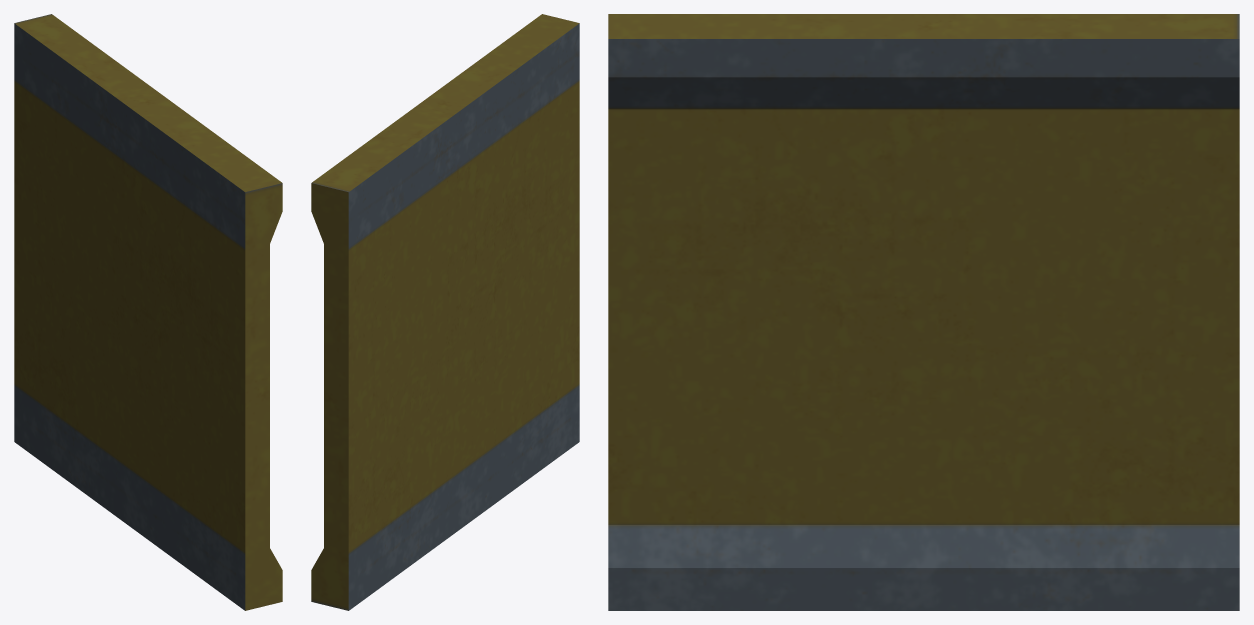
Rendered from S_Wall02.fbx.
The picture shows the model from 3 angles, left to right: view 1: azimuth 30°, elevation 25°; view 2: azimuth 150°, elevation 25°; view 3: azimuth 270°, elevation 25°; orthographic projection. The views are drawn at different scales.
Parts seen in each view (by area): view 1: S_Wall02; view 2: S_Wall02; view 3: S_Wall02.
Boxes of the visible parts, box(x1,y1,x2,y2) form: S_Wall02: box(14, 14, 282, 610); S_Wall02: box(311, 14, 579, 610); S_Wall02: box(608, 14, 1239, 610).
Bounding box in the file's own units: 18.8 × 200 × 200.
Materials: 1 (1 with a texture image).
